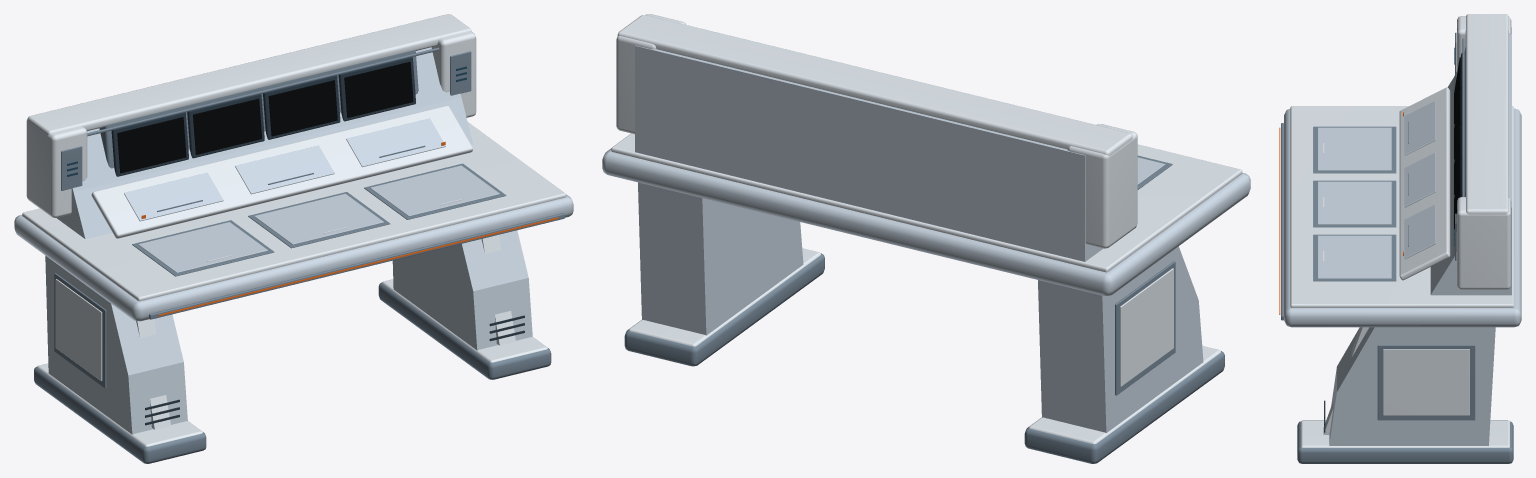
Rendered from SimpleSciFiDesk.glb.
3 views of the same model, side by side, from view 1: azimuth 30°, elevation 25°; view 2: azimuth 150°, elevation 25°; view 3: azimuth 270°, elevation 25° (orthographic). The views are drawn at different scales.
Visible parts, largest first — view 1: SimpleSciFiDesk; view 2: SimpleSciFiDesk; view 3: SimpleSciFiDesk.
Part boxes in pixels (x1,y1,x2,y2): SimpleSciFiDesk: (14,14,573,463); SimpleSciFiDesk: (602,14,1250,463); SimpleSciFiDesk: (1279,14,1521,463).
Bounding box in the file's own units: 9.2 × 5.42 × 4.59.
Materials: 1 (1 with a texture image).
